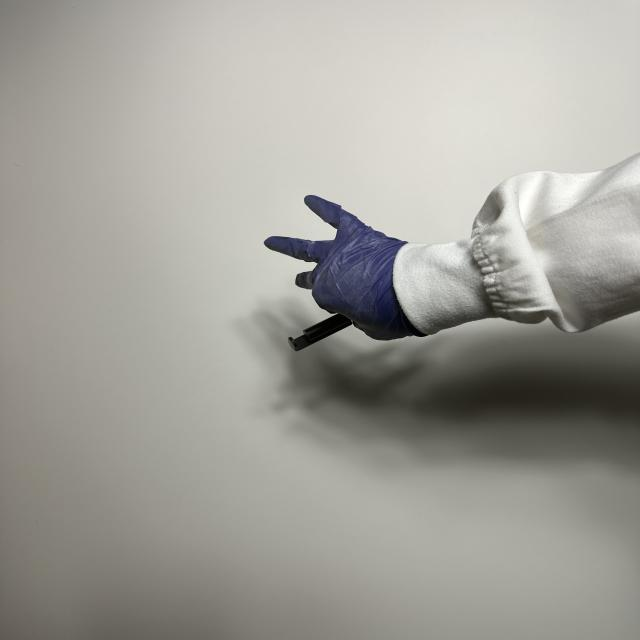gloves_contaminated: (265, 195, 423, 340)
